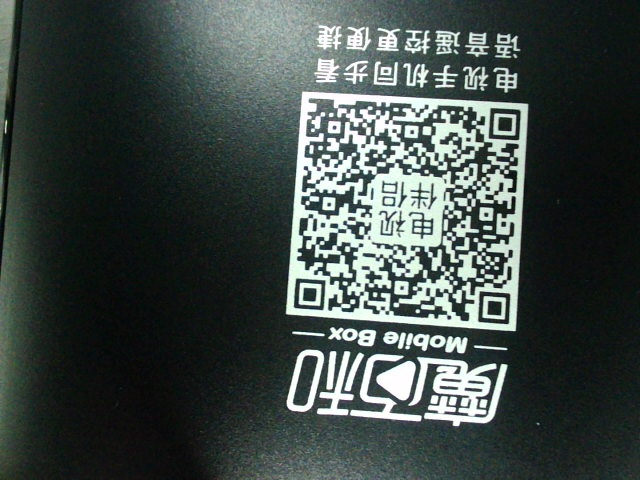AZ_MobileBox: (282, 24, 523, 428)
